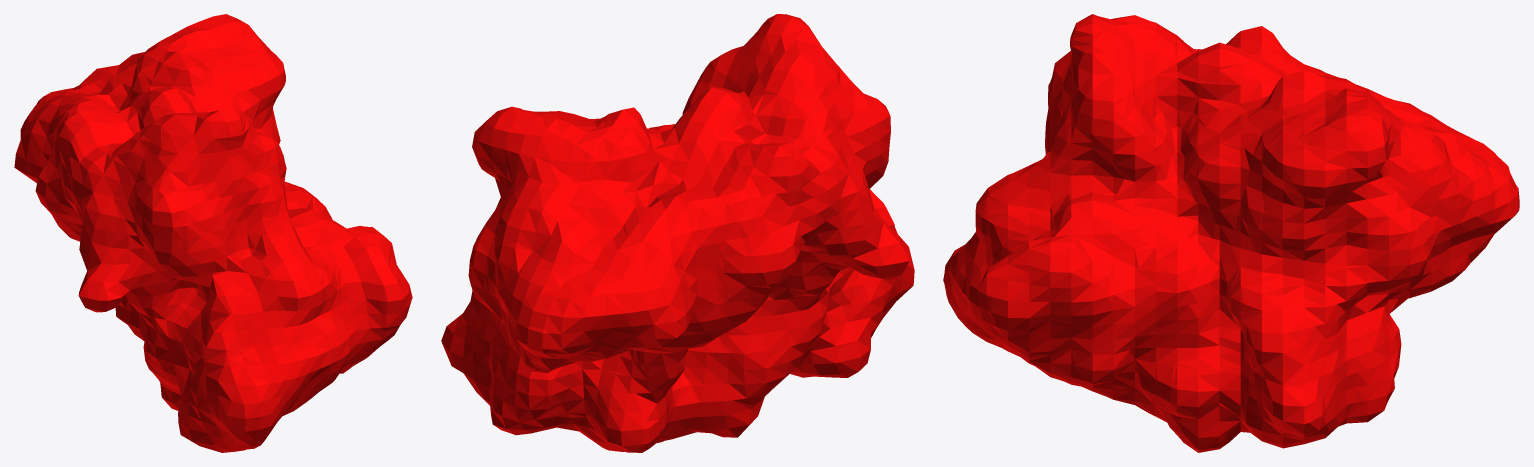
The model's file is gss_coarse.dae.
3 renders of one model, left to right at view 1: azimuth 30°, elevation 25°; view 2: azimuth 150°, elevation 25°; view 3: azimuth 270°, elevation 25°, orthographic. The views are drawn at different scales.
Visible parts, largest first — view 1: gss; view 2: gss; view 3: gss.
Part boxes in pixels (box(x1,y1,x2,y2)): gss: box(14, 14, 412, 452); gss: box(441, 14, 914, 452); gss: box(943, 14, 1519, 452).
Size of the model in its own units: 86.55 by 88.26 by 117.
